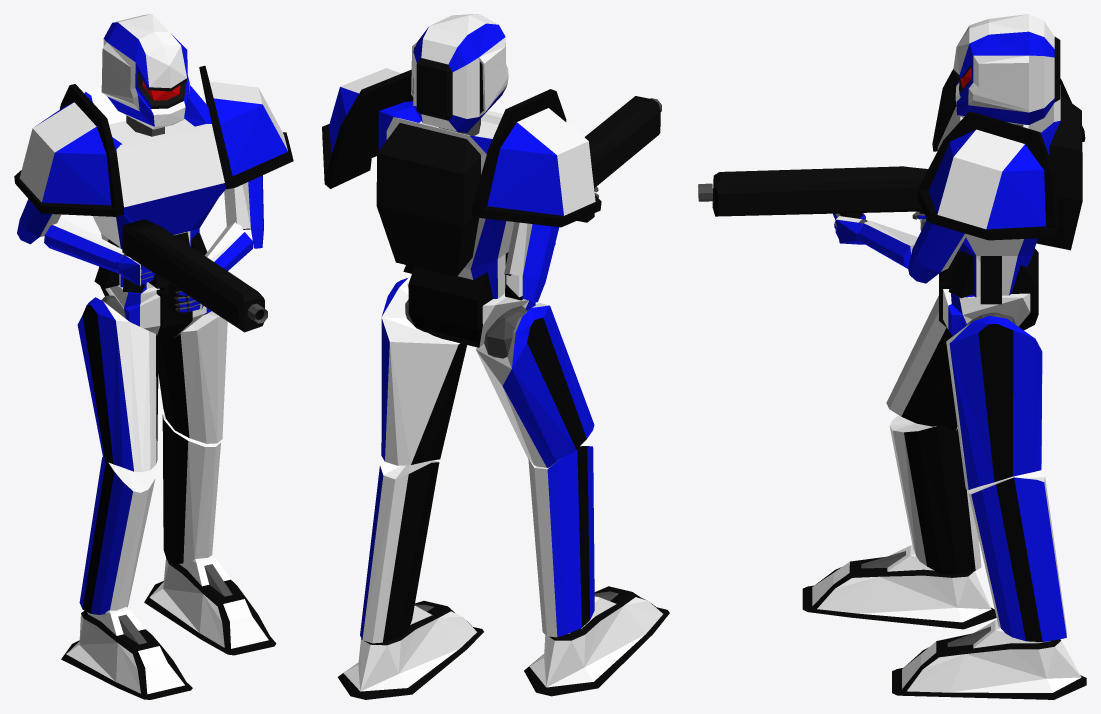
Rendered from robot_animation_000020.obj.
3 renders of one model, left to right at view 1: azimuth 30°, elevation 25°; view 2: azimuth 150°, elevation 25°; view 3: azimuth 270°, elevation 25°, orthographic. The views are drawn at different scales.
Parts seen in each view (by area): view 1: Chest_plate_Cube.004, R_Thigh_Cube.005, Cube.002_Cube.059, Head_base_Cube.022, R_Shin_Cube.007, R_Foot.002_Cube.035, R_Thigh.002_Cube.027, Cube_Cube.001, R_Foot_Cube, R_Shin.002_Cube.029, Cube_Cube.021, Pelvis_Cube.006 (+5 smaller); view 2: Chest_plate_Cube.004, Cube.002_Cube.059, R_Thigh.002_Cube.027, R_Thigh_Cube.005, R_Shin_Cube.007, R_Shin.002_Cube.029, Head_base_Cube.022, R_Foot_Cube, R_Foot.002_Cube.035, Cube_Cube.021, Pelvis_Cube.006, Cube_Cube.001 (+2 smaller); view 3: Cube_Cube.021, R_Thigh.002_Cube.027, R_Shin.002_Cube.029, R_Foot.002_Cube.035, R_Foot_Cube, Head_base_Cube.022, Cube_Cube.001, R_Shin_Cube.007, Chest_plate_Cube.004, R_Thigh_Cube.005, Pelvis_Cube.006, L_Arm_Cube.014 (+3 smaller).
Boxes of the visible parts, x1,y1,x2,y2 form: Chest_plate_Cube.004: (84, 85, 226, 293); R_Thigh_Cube.005: (77, 297, 158, 472); Cube.002_Cube.059: (14, 84, 124, 216); Head_base_Cube.022: (101, 14, 189, 129); R_Shin_Cube.007: (79, 457, 156, 614); R_Foot.002_Cube.035: (144, 555, 276, 655); R_Thigh.002_Cube.027: (158, 311, 227, 443); Cube_Cube.001: (122, 219, 267, 332); R_Foot_Cube: (61, 607, 192, 699); R_Shin.002_Cube.029: (162, 414, 220, 564); Cube_Cube.021: (199, 65, 293, 189); Pelvis_Cube.006: (100, 285, 211, 342); Chest_plate_Cube.004: (376, 101, 522, 300); Cube.002_Cube.059: (471, 89, 601, 227); R_Thigh.002_Cube.027: (381, 277, 466, 465); R_Thigh_Cube.005: (476, 303, 594, 467); R_Shin_Cube.007: (528, 446, 594, 637); R_Shin.002_Cube.029: (360, 456, 439, 643); Head_base_Cube.022: (411, 14, 508, 132); R_Foot_Cube: (524, 586, 669, 696); R_Foot.002_Cube.035: (337, 601, 483, 699); Cube_Cube.021: (322, 68, 413, 188); Pelvis_Cube.006: (407, 267, 535, 347); Cube_Cube.001: (577, 96, 661, 222); Cube_Cube.021: (916, 111, 1059, 240); R_Thigh.002_Cube.027: (946, 315, 1042, 489); R_Shin.002_Cube.029: (968, 470, 1067, 641); R_Foot.002_Cube.035: (892, 620, 1086, 699); R_Foot_Cube: (802, 545, 996, 629); Head_base_Cube.022: (953, 14, 1060, 124); Cube_Cube.001: (698, 166, 927, 220); R_Shin_Cube.007: (889, 415, 981, 574); Chest_plate_Cube.004: (937, 85, 1082, 304); R_Thigh_Cube.005: (886, 295, 957, 430); Pelvis_Cube.006: (939, 248, 1038, 335); L_Arm_Cube.014: (908, 219, 967, 283).
Bounding box in the file's own units: 1.32 × 3.03 × 1.69.
